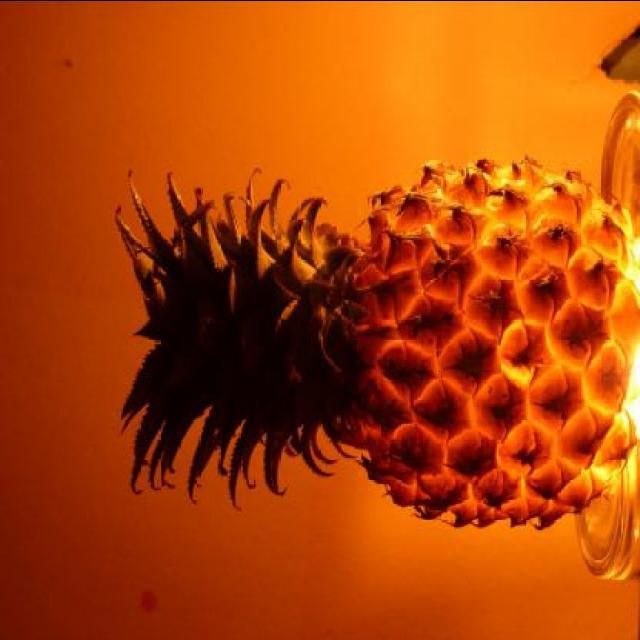Pineapple: (112, 144, 638, 536)
